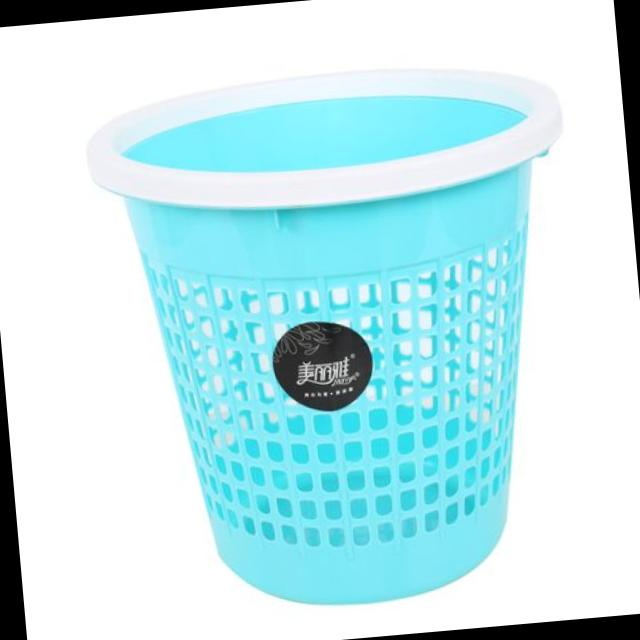dustbin: (74, 39, 608, 630)
